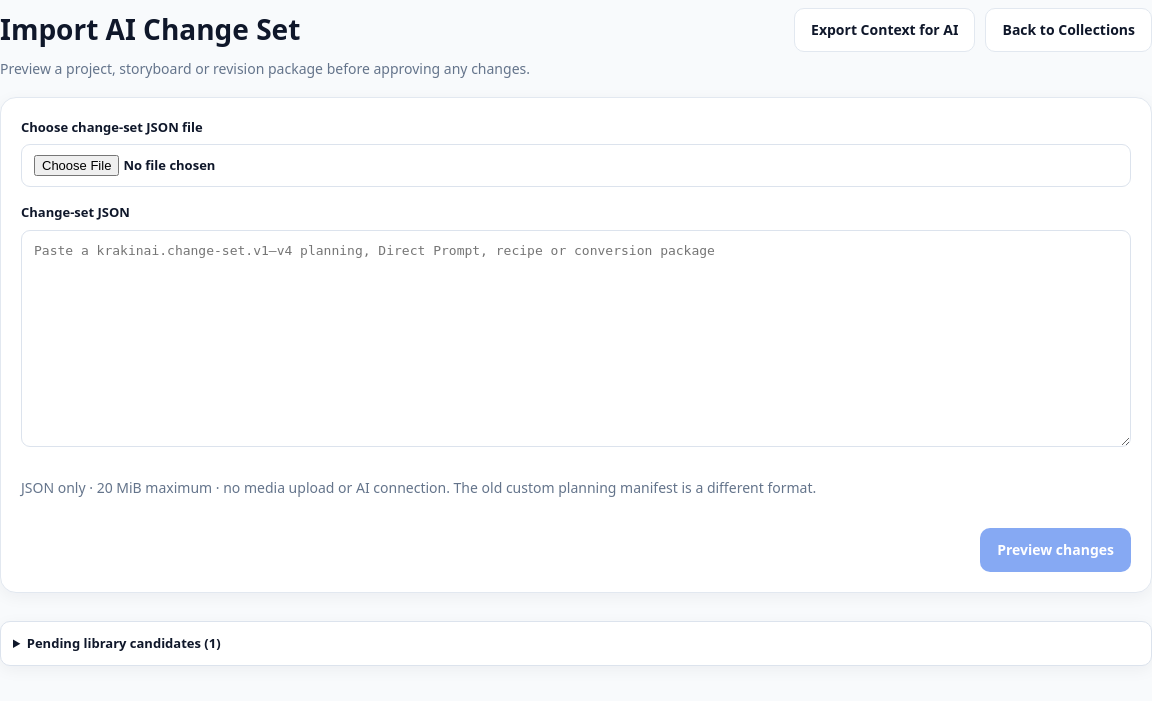
Test case: keeps a deferred Outfit accessible for a later typed review without writes on preview
Click the heading "Pending library candidates (1)" at (124, 642), box [27,634,221,652]
(page scrolled)
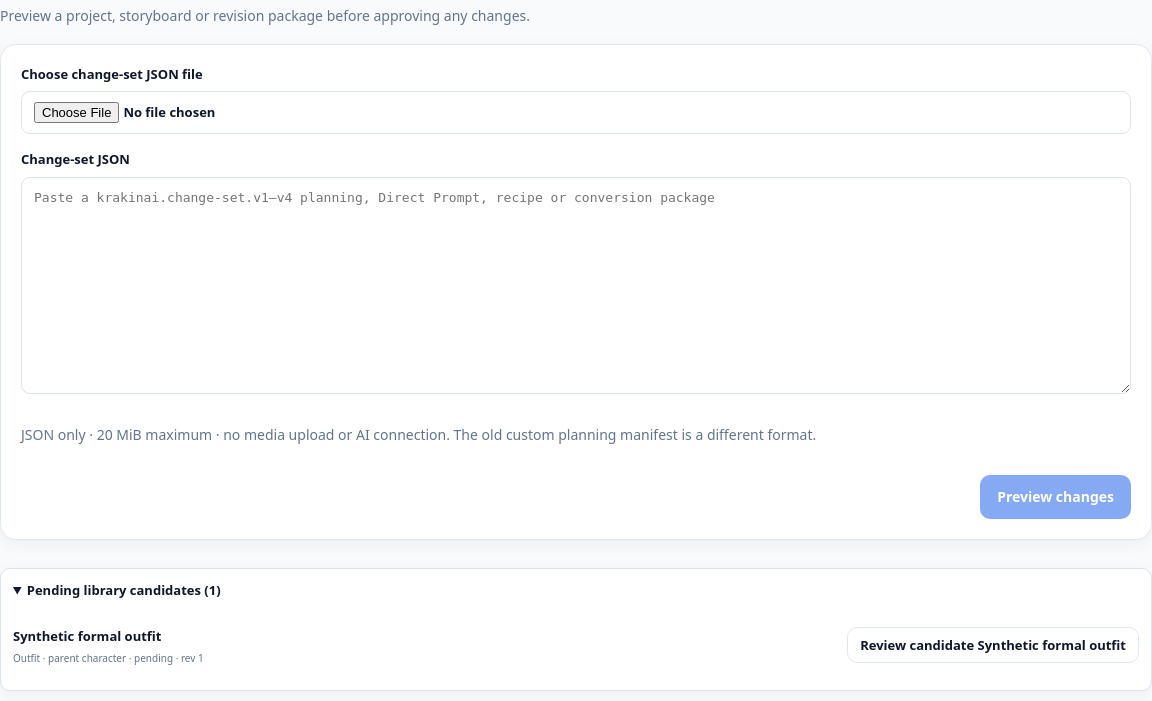
Click the button "Review candidate Synthetic formal outfit" at (993, 645), box [847,627,1139,663]
(page scrolled)
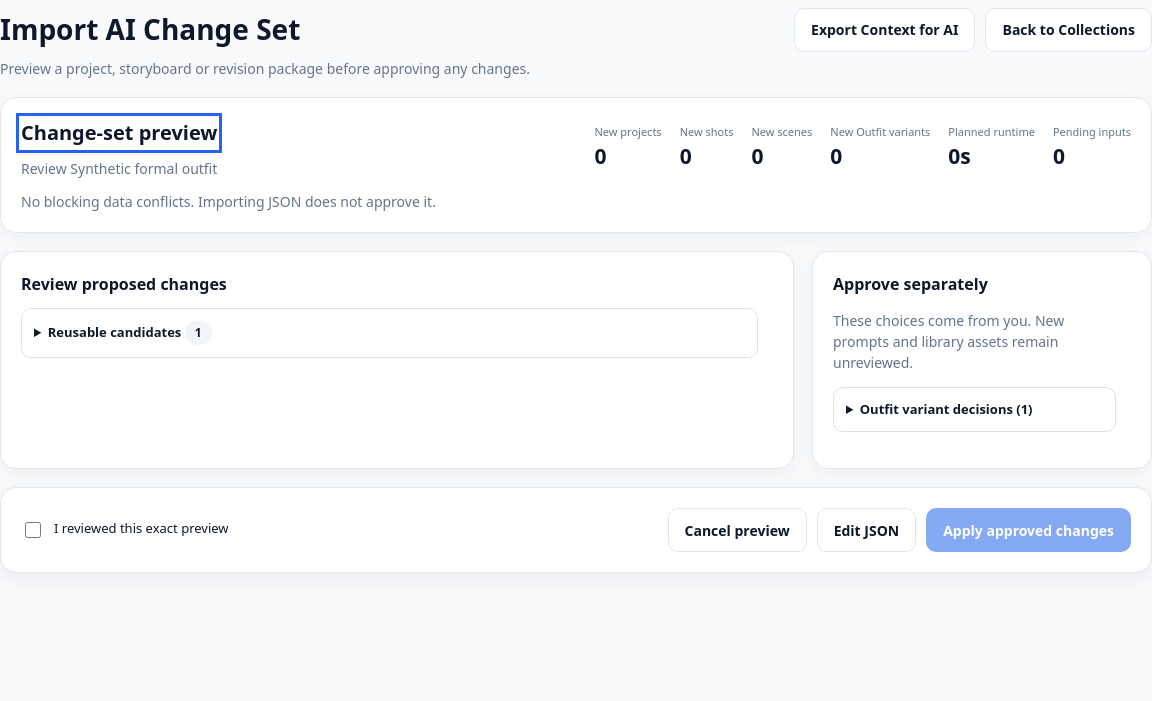
Expected: the heading "Outfit variant decisions (1)" is shown, [860,400,1033,418]
